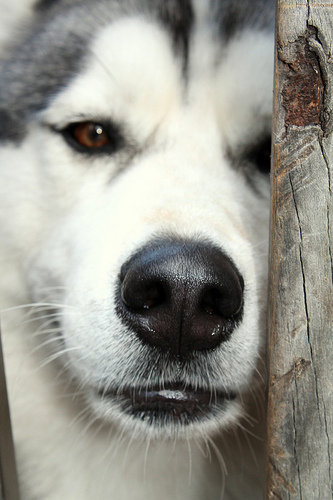dog: (1, 0, 329, 498)
